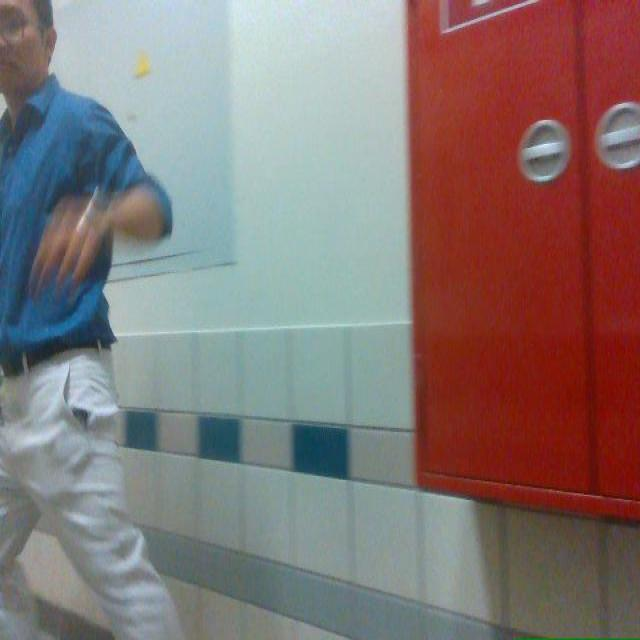humans: (0, 0, 185, 639)
